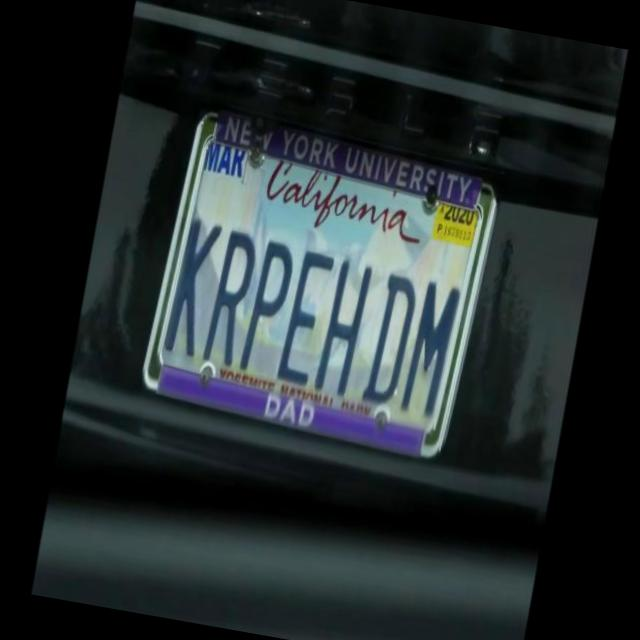LicensePlate: (121, 72, 516, 494)
